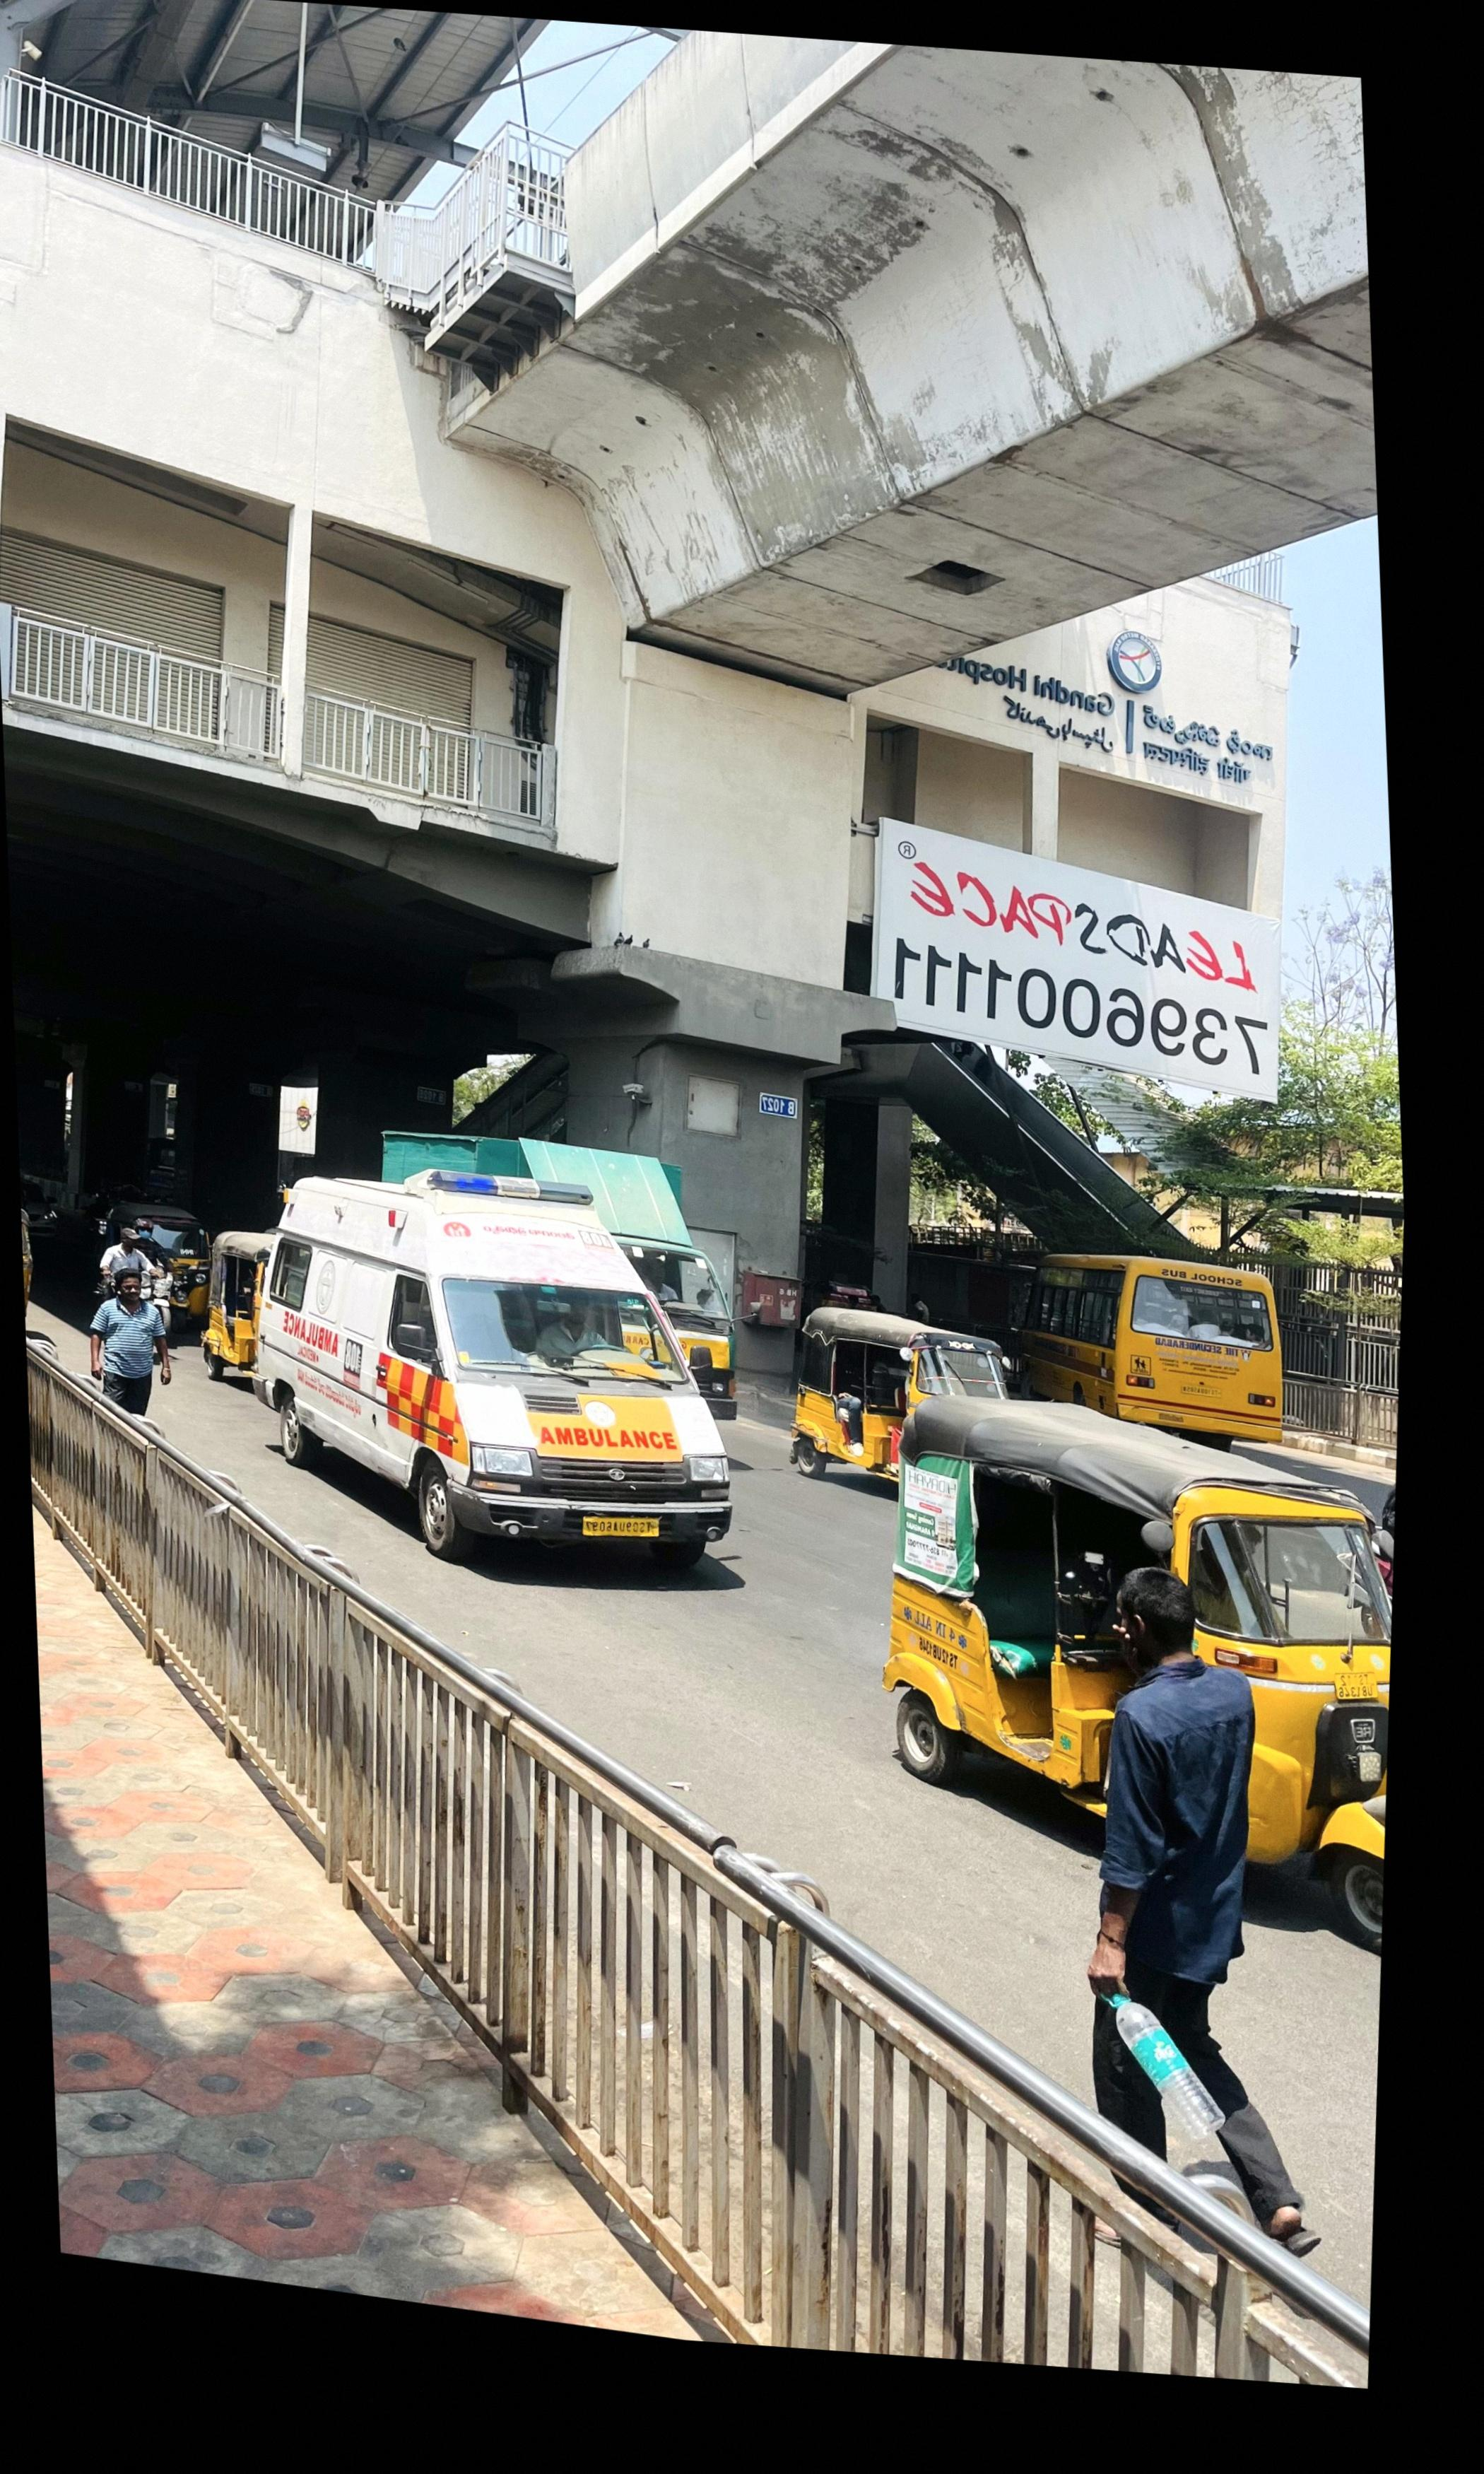ambulance: (253, 1168, 731, 1569)
